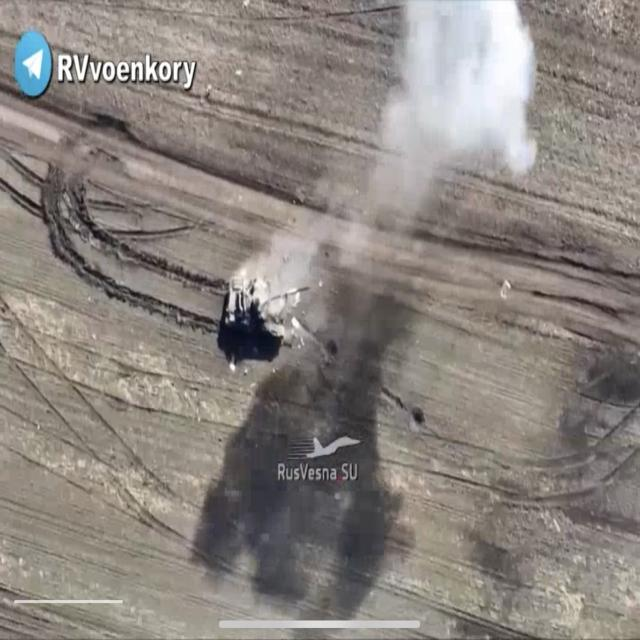tank: (222, 279, 286, 343)
